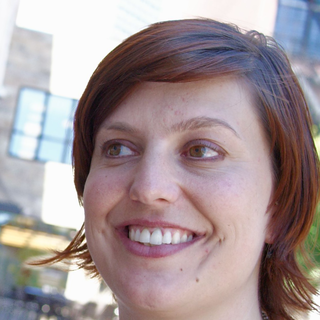eye: (181, 140, 229, 165), (100, 138, 143, 163)
